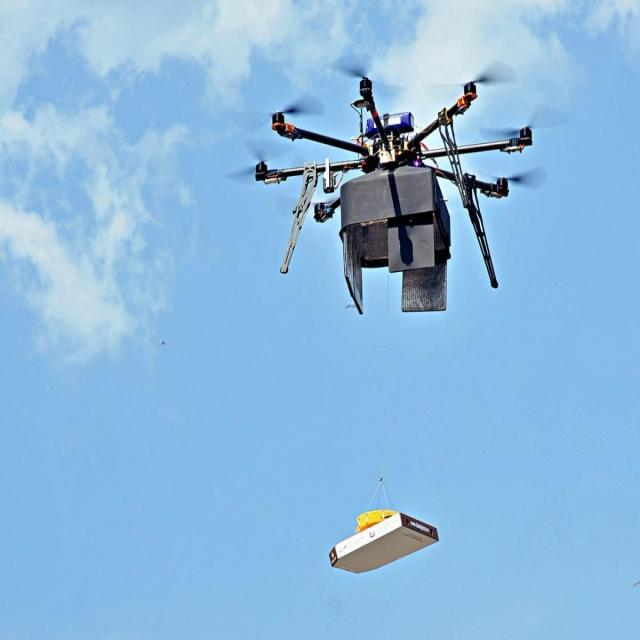UAV: (253, 77, 532, 314)
